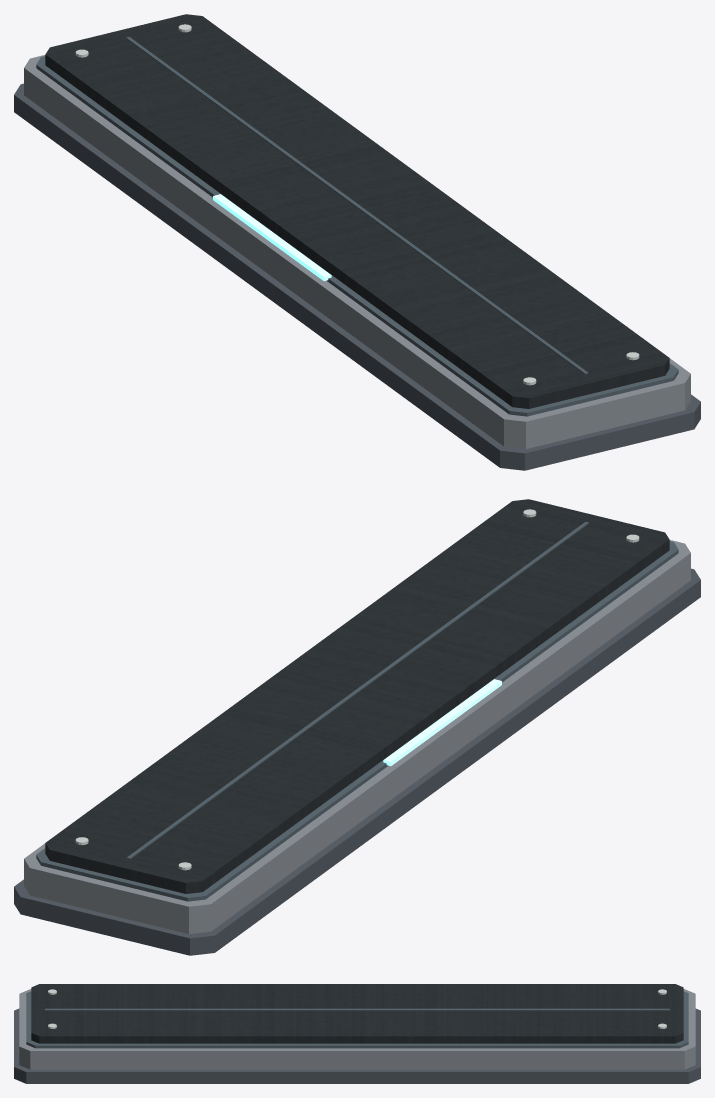
File: m03-metal-edge-east.glb
3 renders of one model, top to bottom at view 1: azimuth 30°, elevation 25°; view 2: azimuth 150°, elevation 25°; view 3: azimuth 270°, elevation 25°, orthographic. The views are drawn at different scales.
Visible parts, largest first — view 1: edge-east/003, edge-east/001, edge-east/000, edge-east/002, edge-east/004, edge-east/009; view 2: edge-east/003, edge-east/001, edge-east/000, edge-east/002, edge-east/004, edge-east/009; view 3: edge-east/003, edge-east/001, edge-east/000, edge-east/002, edge-east/004.
Part boxes in pixels (x1,y1,x2,y2): edge-east/003: (45,14,669,408); edge-east/001: (24,55,690,448); edge-east/000: (14,83,700,470); edge-east/002: (36,56,678,416); edge-east/004: (126,37,588,374); edge-east/009: (213,194,331,280); edge-east/003: (45,499,669,893); edge-east/001: (24,540,690,933); edge-east/000: (14,568,700,955); edge-east/002: (36,541,678,901); edge-east/004: (126,522,588,859); edge-east/009: (383,679,501,765); edge-east/003: (31,984,683,1043); edge-east/001: (19,989,695,1069); edge-east/000: (14,1008,700,1083); edge-east/002: (26,991,688,1048); edge-east/004: (45,1008,669,1010).
Size of the model in its own units: 0.23 by 0.0678 by 1.
6 materials, 1 textured.
